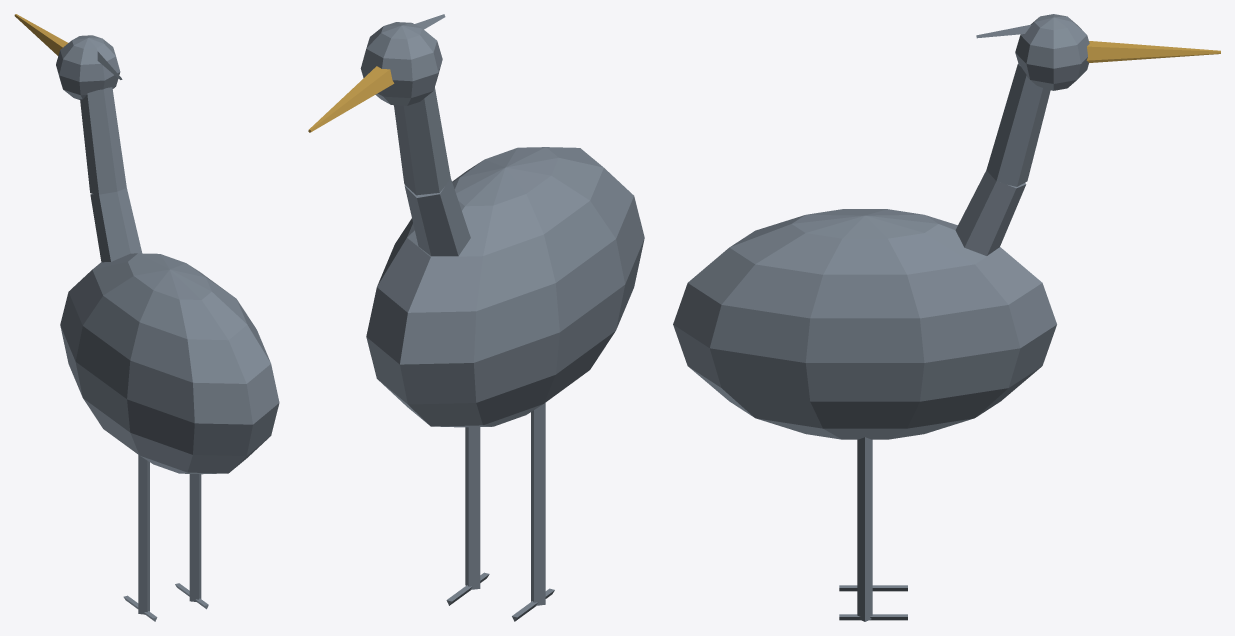
The model's file is heron.glb.
3 views of the same model, side by side, from view 1: azimuth 30°, elevation 25°; view 2: azimuth 150°, elevation 25°; view 3: azimuth 270°, elevation 25° (orthographic). The views are drawn at different scales.
Visible parts, largest first — view 1: heron, head; view 2: heron, head; view 3: heron, head.
Boxes of the visible parts, bbox=[...] form: heron: bbox=[60, 87, 279, 621]; head: bbox=[14, 14, 122, 99]; heron: bbox=[366, 87, 644, 621]; head: bbox=[308, 14, 445, 132]; heron: bbox=[673, 63, 1056, 621]; head: bbox=[976, 14, 1220, 90].
Bounding box in the file's own units: 0.4261 × 1.51 × 1.28.
